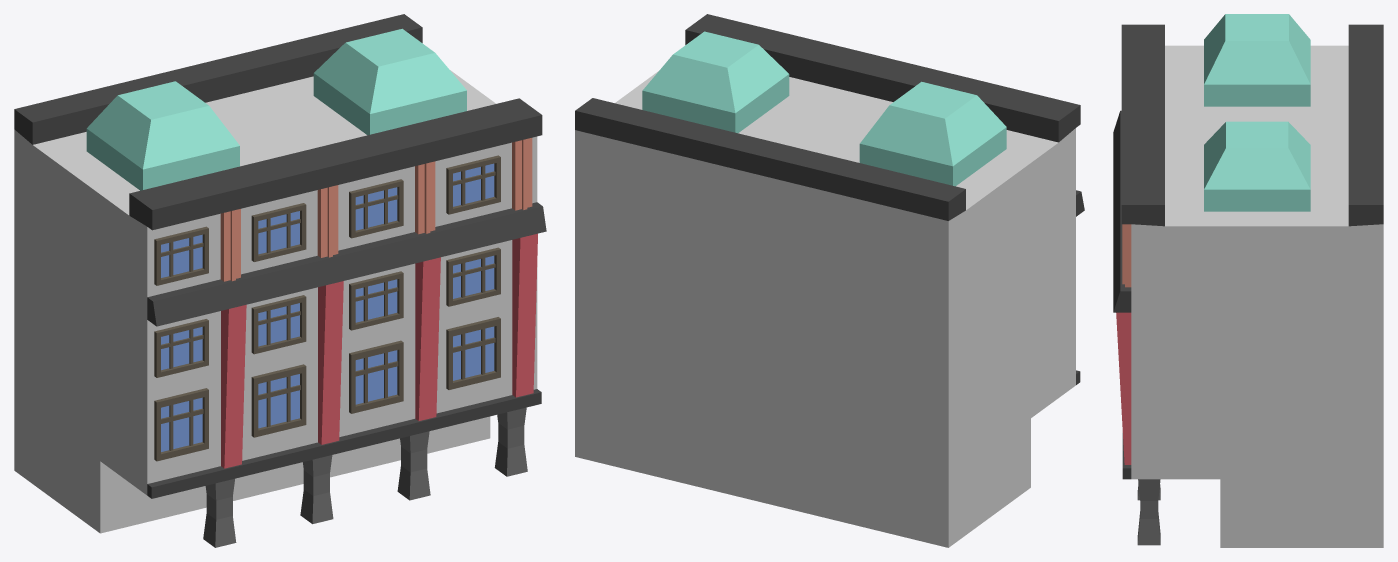
Rendered from PalazzoModCentraleDx.fbx.
3 views of the same model, side by side, from view 1: azimuth 30°, elevation 25°; view 2: azimuth 150°, elevation 25°; view 3: azimuth 270°, elevation 25° (orthographic). The views are drawn at different scales.
Visible parts, largest first — view 1: PalazzoModCentraleDx; view 2: PalazzoModCentraleDx; view 3: PalazzoModCentraleDx.
Part boxes in pixels (x1,y1,x2,y2): PalazzoModCentraleDx: (14,14,546,547); PalazzoModCentraleDx: (575,14,1084,547); PalazzoModCentraleDx: (1113,14,1383,547).
Bounding box in the file's own units: 1695 × 1656 × 1072.
